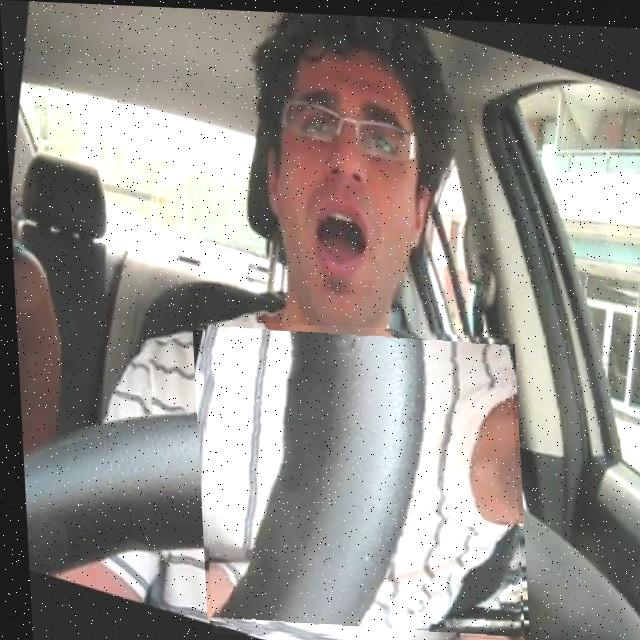no-seatbelt: (194, 318, 518, 640)
